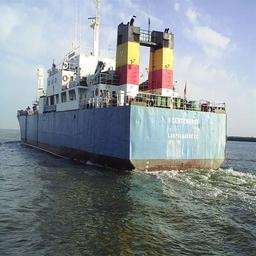Ship: (13, 17, 231, 172)
